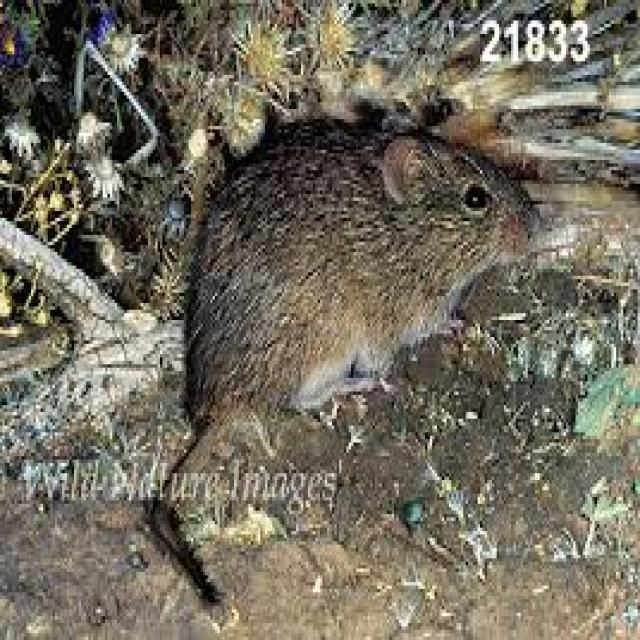Rat: (153, 54, 564, 462)
